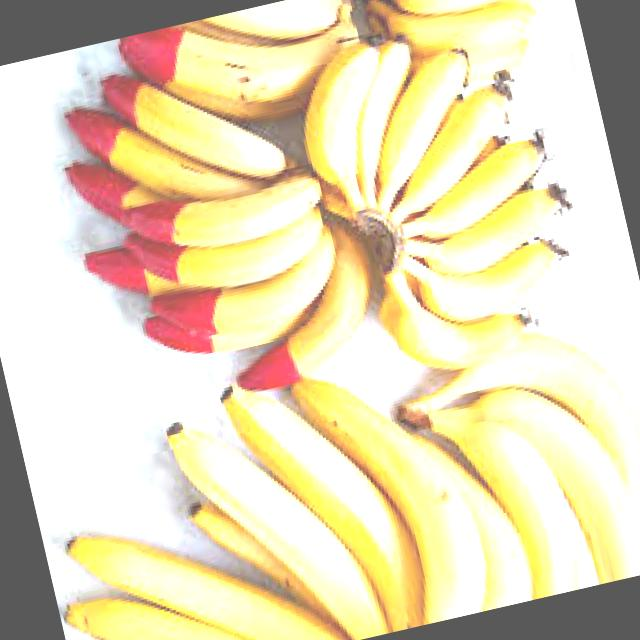Banana: (20, 330, 535, 640), (42, 29, 396, 426), (283, 0, 604, 391), (380, 308, 640, 621), (114, 0, 379, 156), (351, 0, 561, 104)
